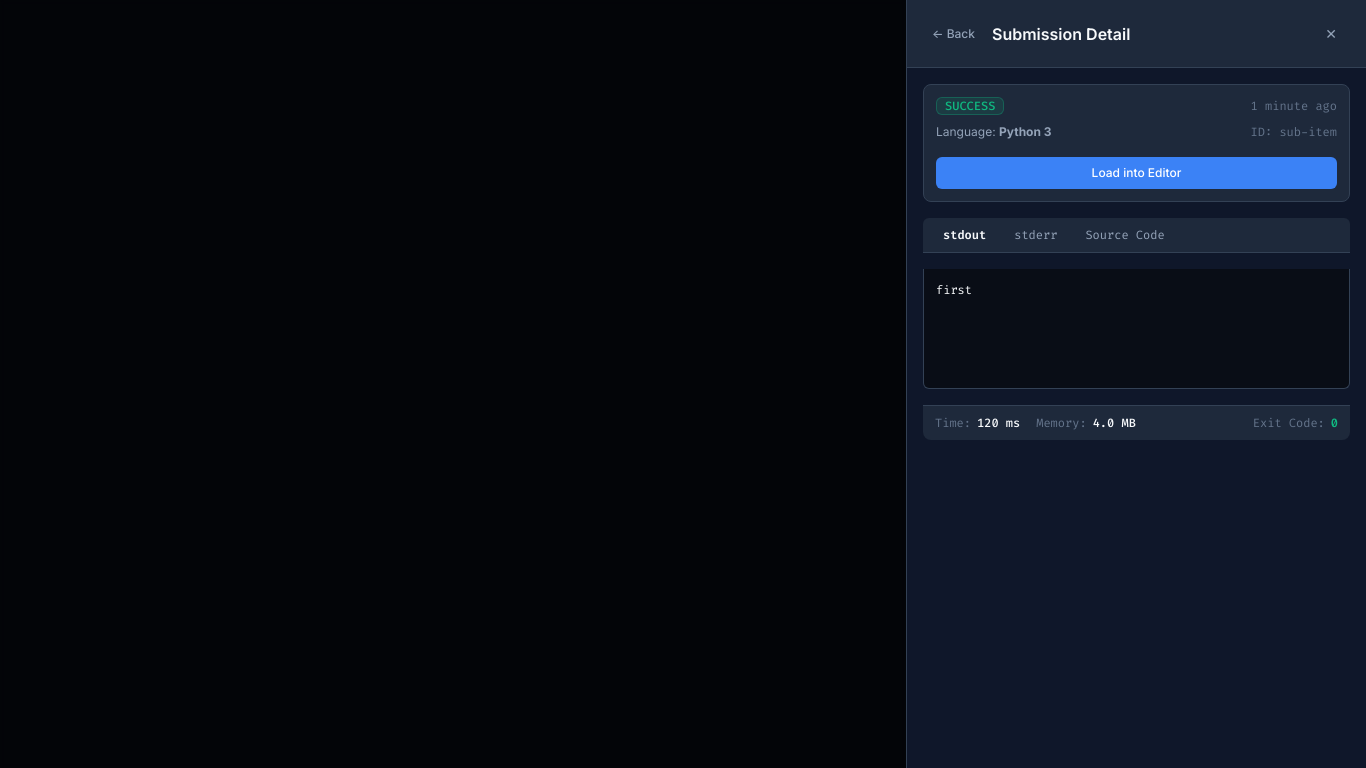
Test: HistoryDrawer › 17. Load into Editor prompts confirmation when workspace is modified
What coordinates should you click on to do the following:
click the button "Load into Editor"
I would click on:
 (1136, 173)
Its box is [936,157,1337,189].
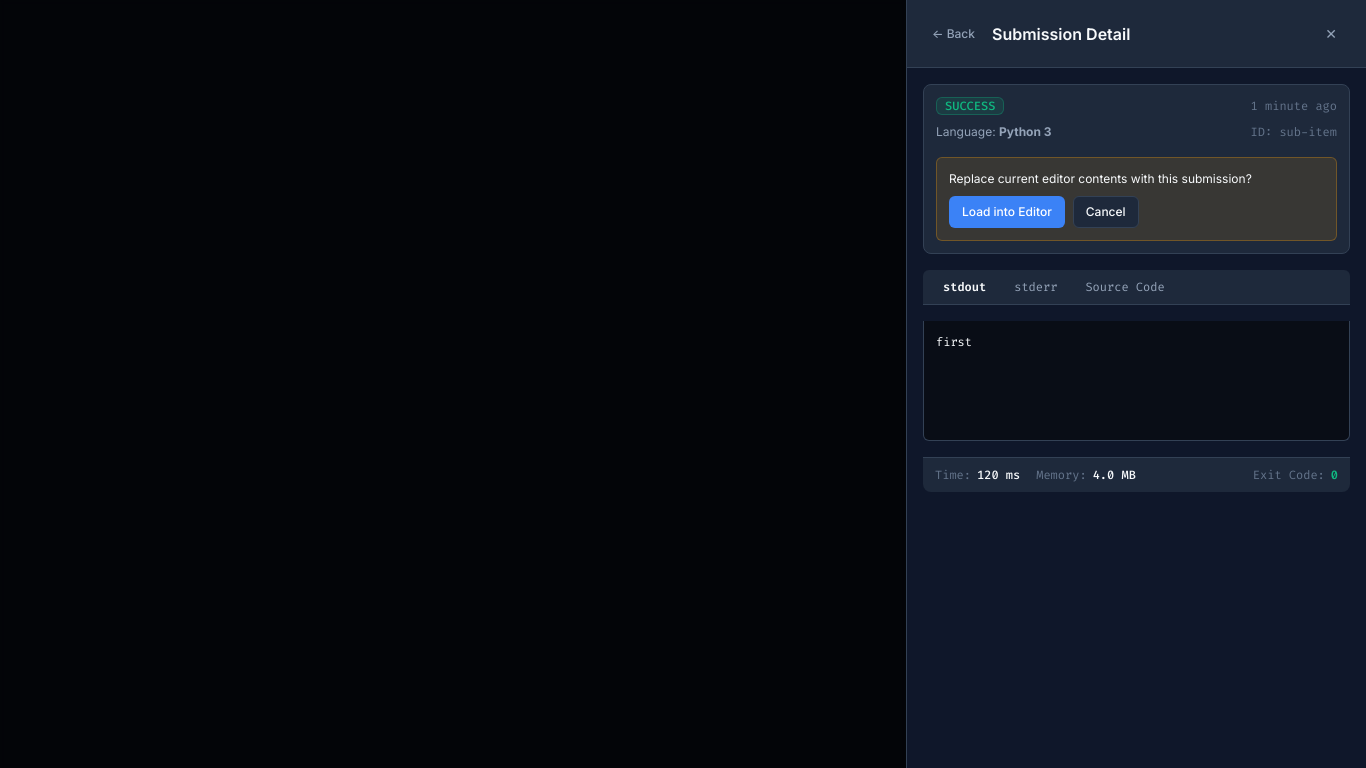
Expected: the text "Replace current editor contents with this submission?" is shown, [949,171,1252,186]
Cancel preserves workspace
What coordinates should you click on to do the following:
click the button "Cancel"
I would click on:
 (1106, 212)
Its box is [1073,196,1139,228].
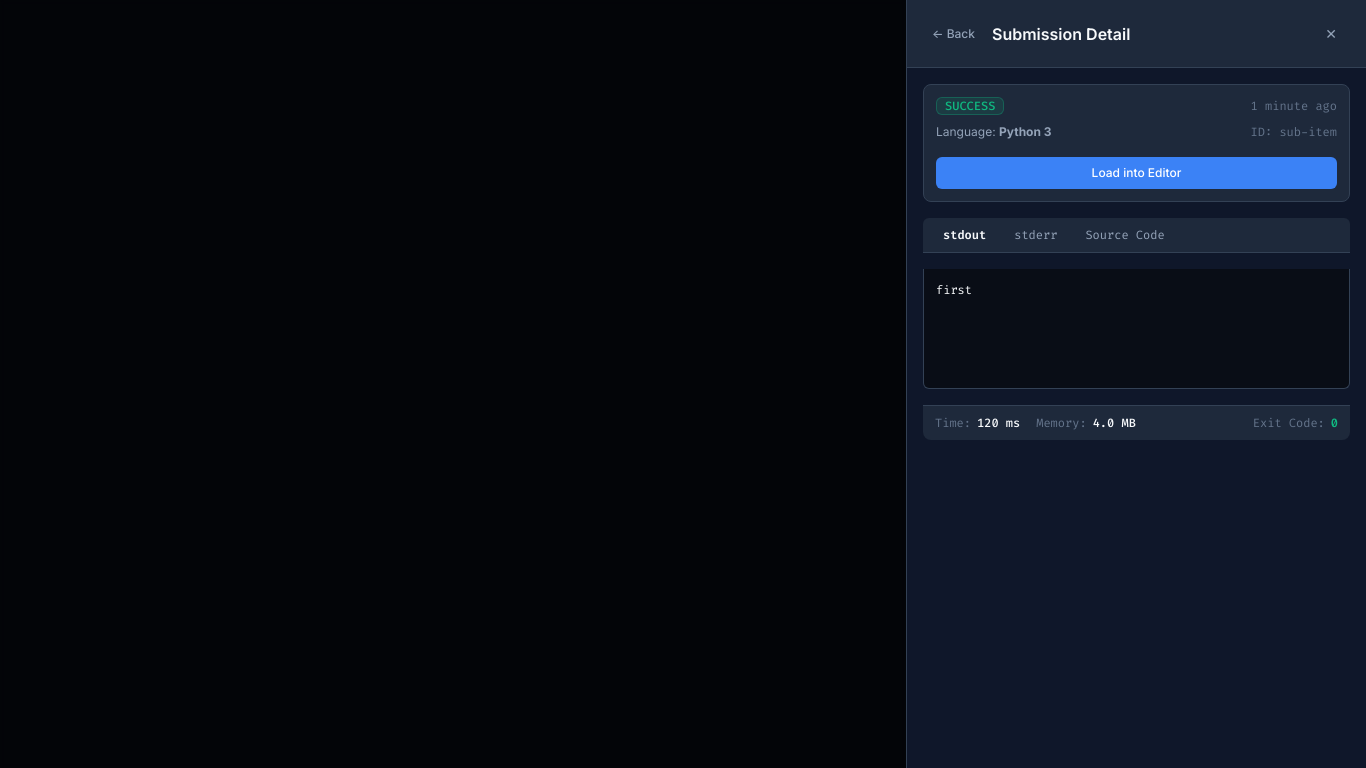
Expected: the text "Replace current editor contents with this submission?" is gone
